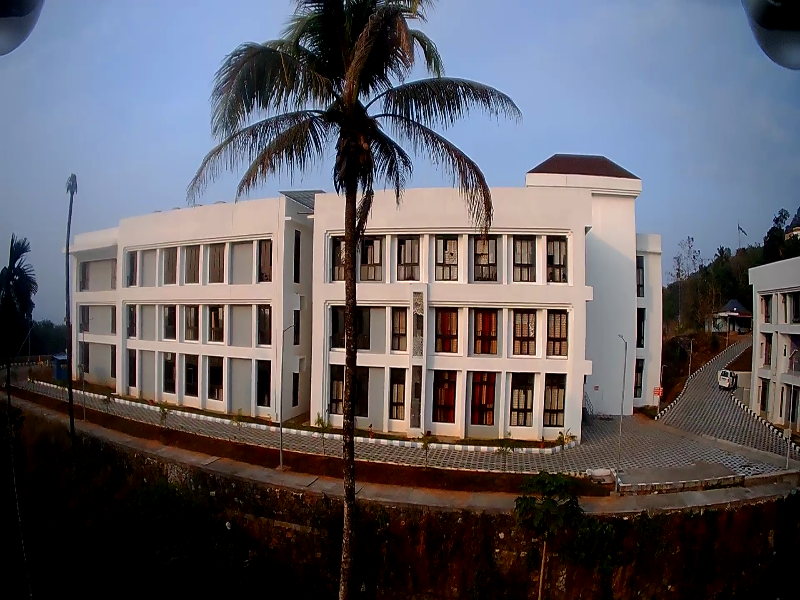coconut: (357, 140, 373, 152)
